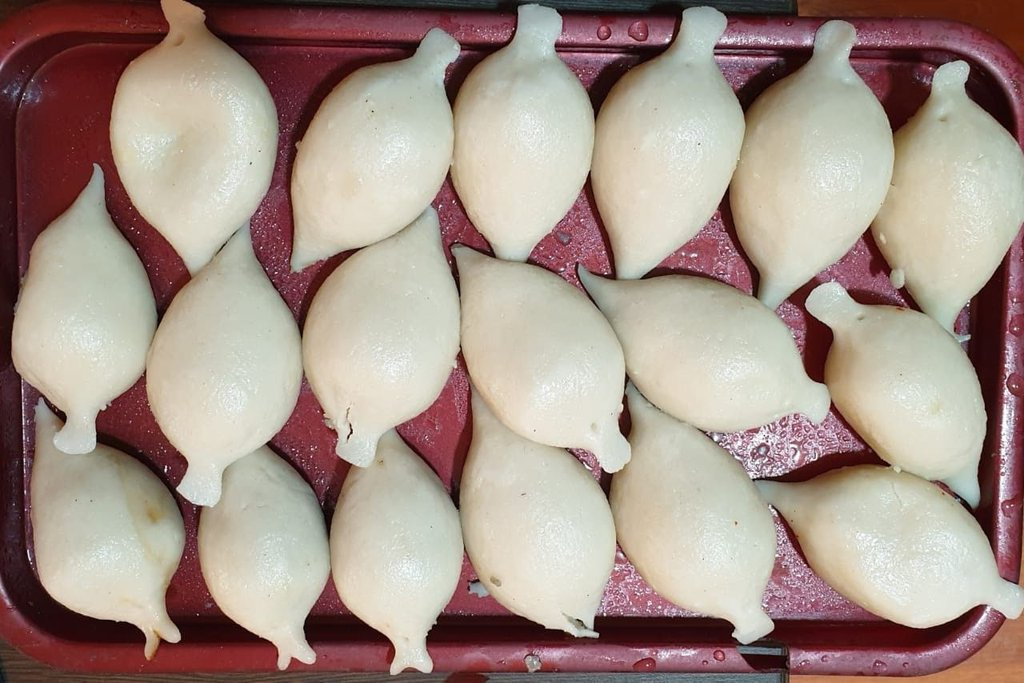yomari: (135, 0, 255, 273), (623, 12, 745, 277), (320, 30, 477, 225), (773, 10, 882, 287), (28, 175, 123, 463), (488, 448, 615, 662), (638, 475, 785, 643), (487, 8, 582, 262), (210, 497, 340, 680), (922, 40, 1005, 310), (495, 317, 637, 472), (73, 488, 195, 665), (803, 283, 950, 423), (167, 253, 243, 512), (858, 517, 1017, 635), (312, 285, 412, 472), (653, 340, 832, 432), (353, 518, 455, 675)
